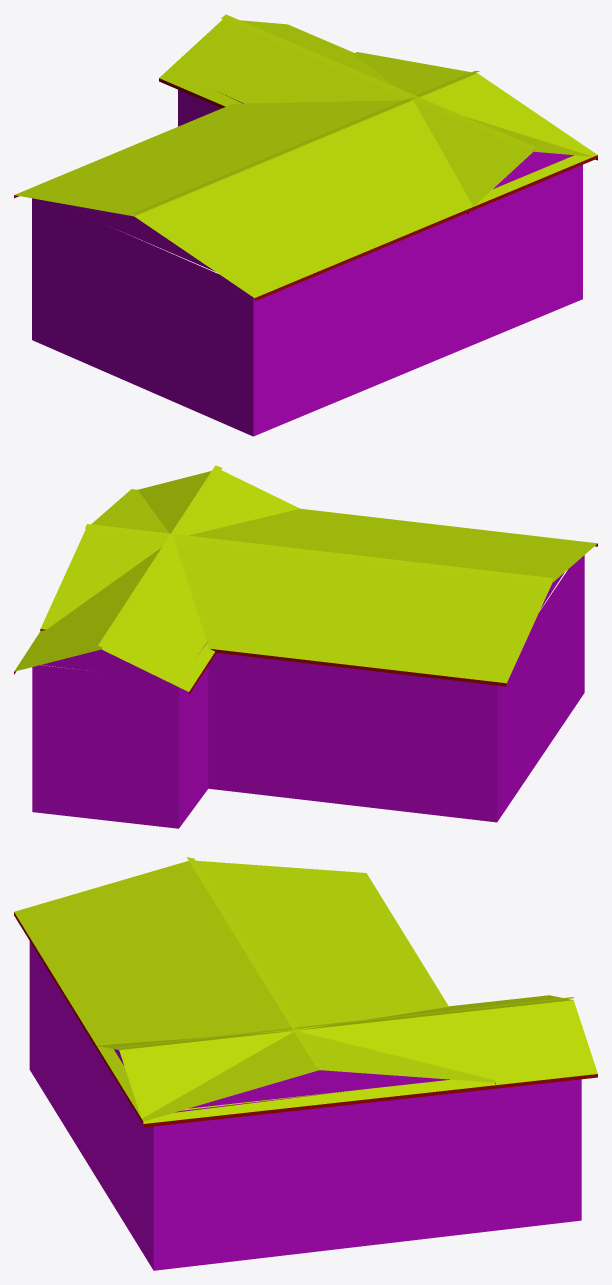
File: rmc_40.glb
The picture shows the model from 3 angles, top to bottom: view 1: azimuth 30°, elevation 25°; view 2: azimuth 150°, elevation 25°; view 3: azimuth 270°, elevation 25°; orthographic projection. The views are drawn at different scales.
Parts seen in each view (by area): view 1: rmc_40; view 2: rmc_40; view 3: rmc_40.
Part boxes in pixels (<box>): rmc_40: <box>14,14,597,436</box>; rmc_40: <box>14,465,597,828</box>; rmc_40: <box>14,857,597,1270</box>.
Bounding box in the file's own units: 17.91 × 6.39 × 17.77.
